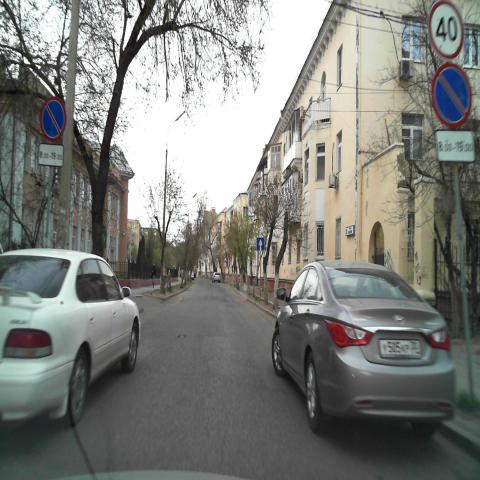3_24: (428, 0, 463, 59)
3_28: (41, 97, 66, 140)
8_5_4: (436, 130, 474, 162), (38, 143, 64, 166)
